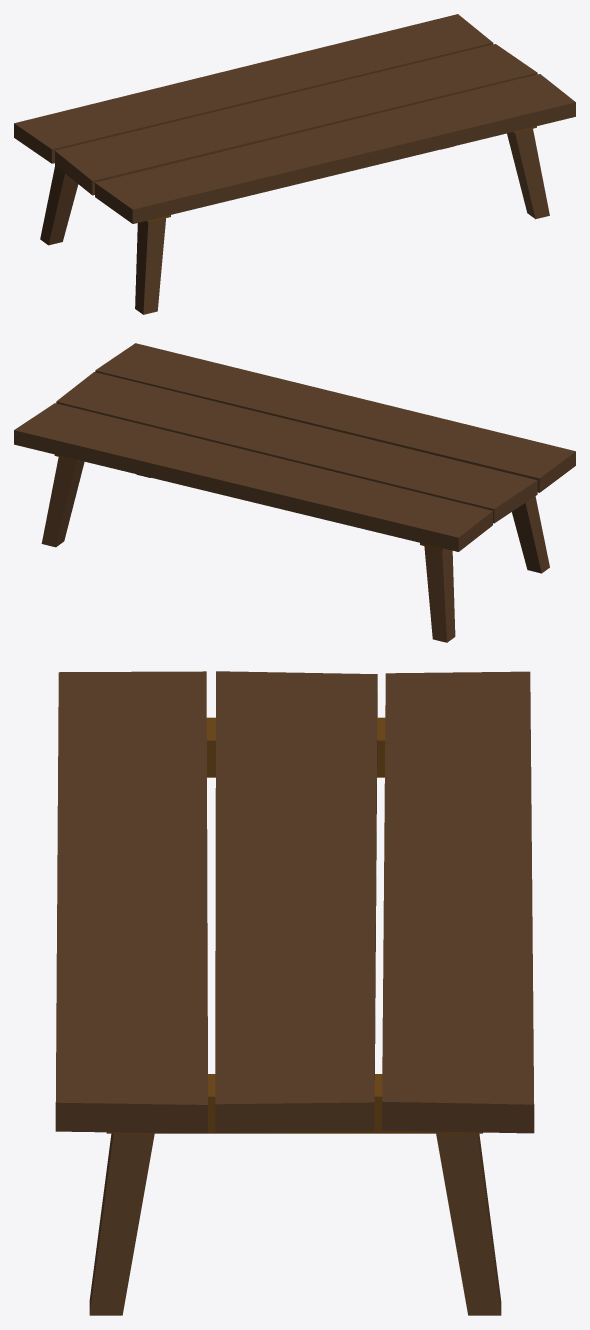
File: woodenTableLongNormals.fbx
3 renders of one model, top to bottom at view 1: azimuth 30°, elevation 25°; view 2: azimuth 150°, elevation 25°; view 3: azimuth 270°, elevation 25°, orthographic. The views are drawn at different scales.
Visible parts, largest first — view 1: Table3; view 2: Table3; view 3: Table3.
Boxes of the visible parts, box(x1,y1,x2,y2) form: Table3: box(14, 14, 575, 314); Table3: box(14, 343, 575, 642); Table3: box(55, 671, 534, 1315).
Bounding box in the file's own units: 775 × 192 × 361.
